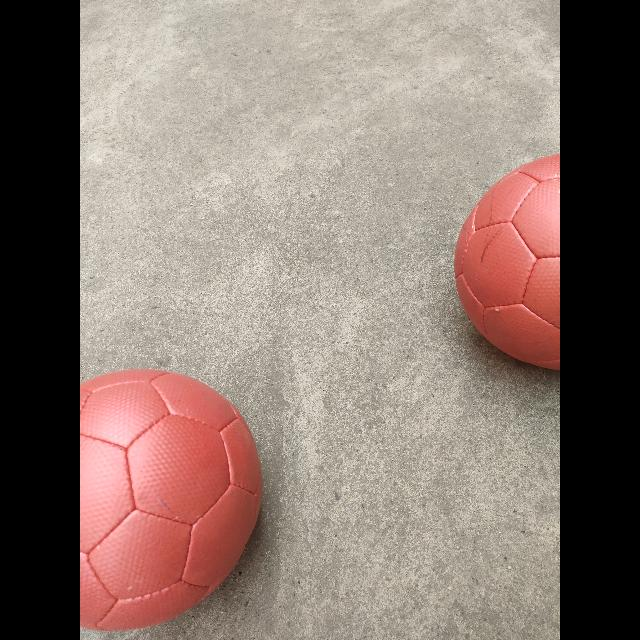R: (80, 370, 262, 630), (454, 153, 560, 371)
